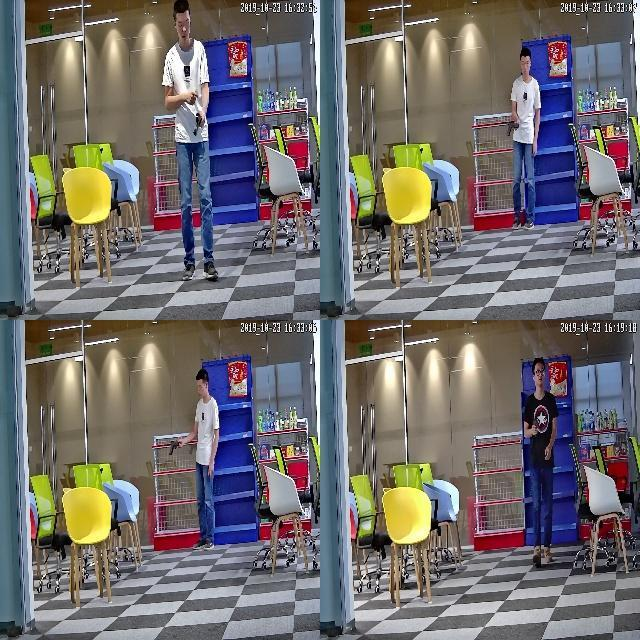gun-knife-thesis - v11 Yolov5 augmented: (186, 108, 205, 138), (165, 433, 185, 459), (504, 118, 517, 138), (527, 413, 537, 437)
